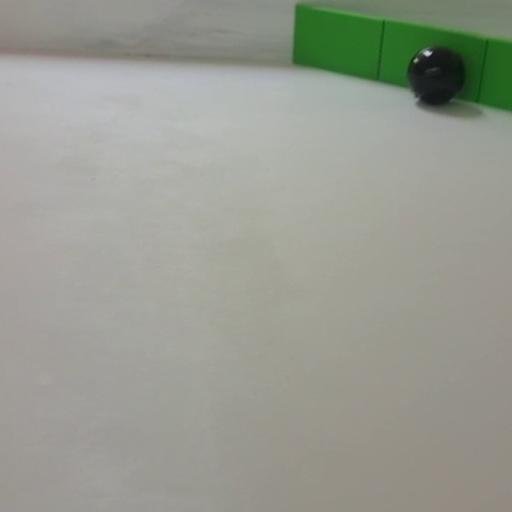dead: (406, 44, 467, 105)
